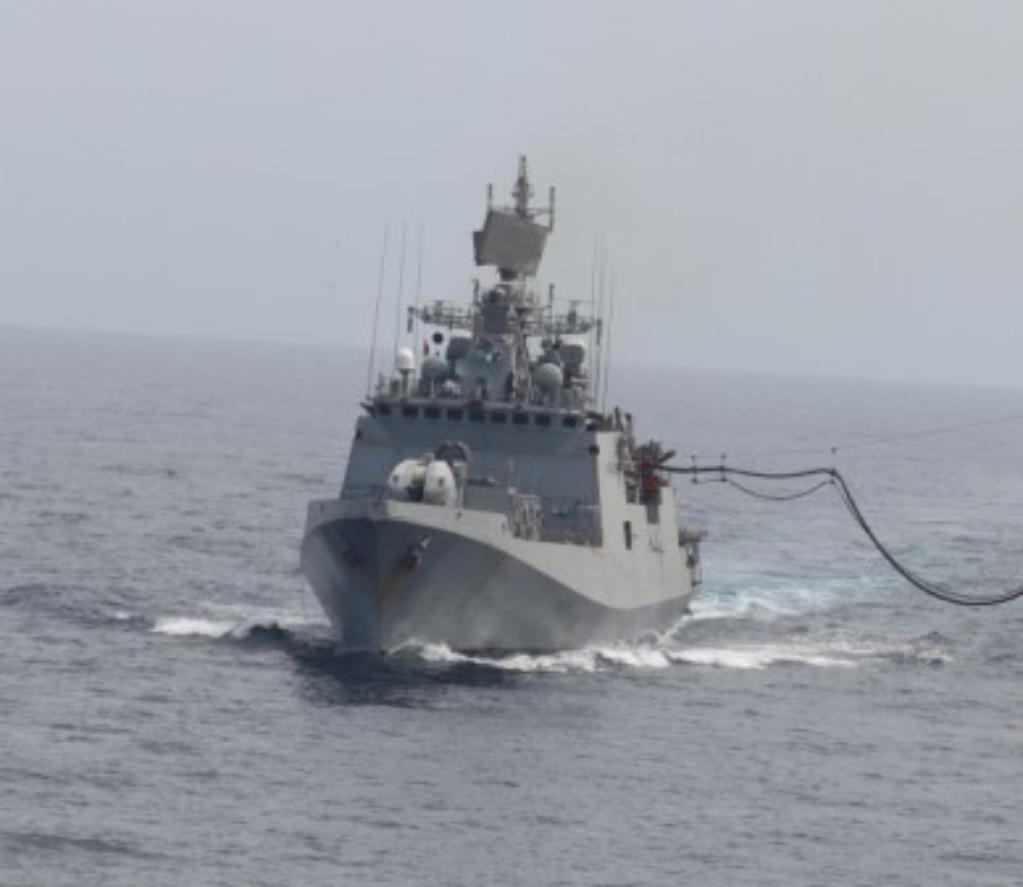Warship: (295, 159, 705, 672)
